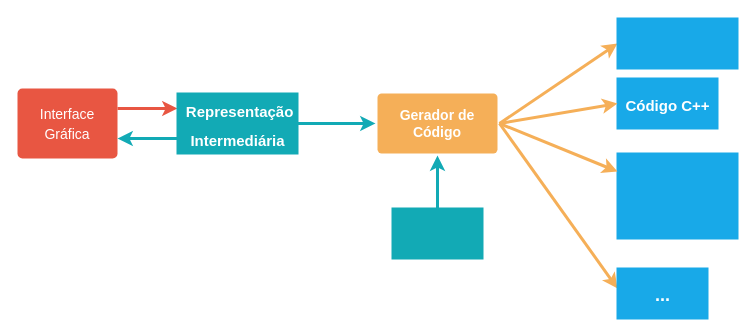
Image size: 755x336. Some labels were removed from this diagram. The shapes that lost their labels are listed below. From the top down, each one's centre as x and y in pixels, then its label:
[677,43]: Código Pyhton
[677,195]: Código C para execução interativa
[437,233]: Templates
